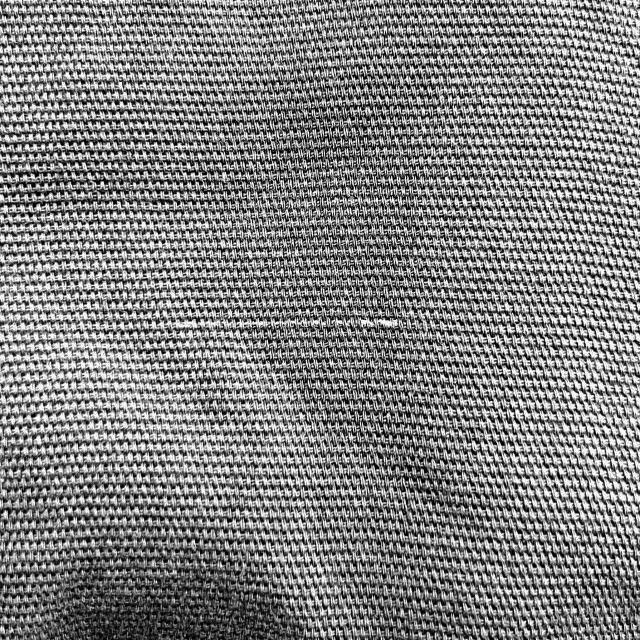Foreign_yarn: (150, 309, 414, 349)
